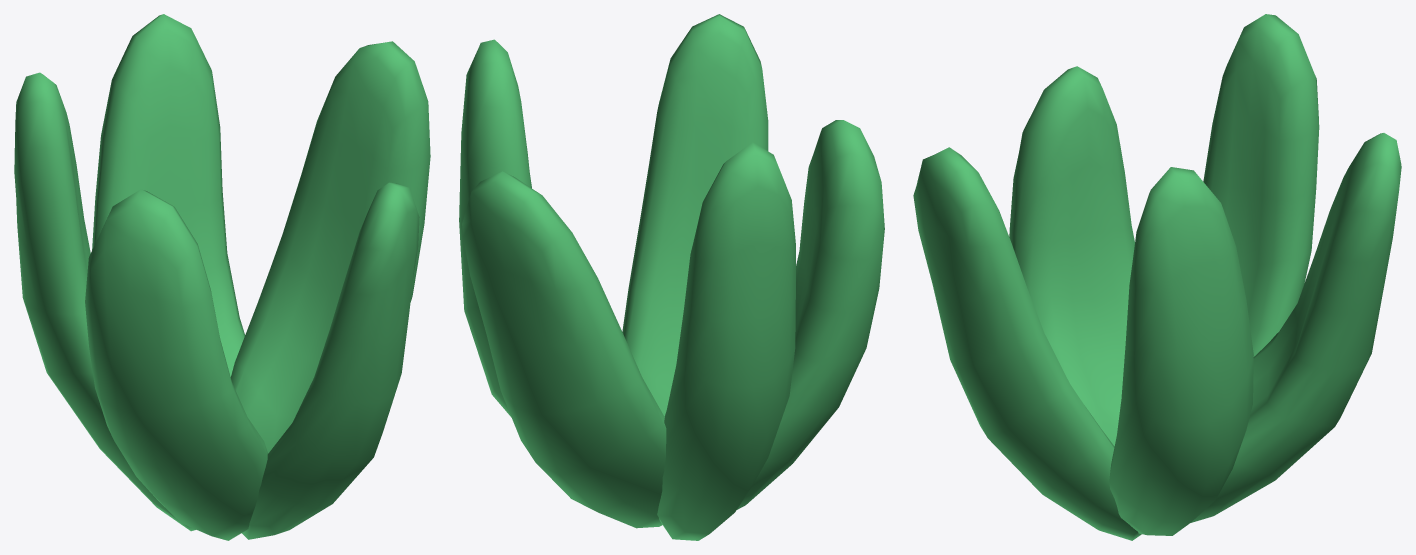
File: Plant_A_02.fbx
The picture shows the model from 3 angles, left to right: view 1: azimuth 30°, elevation 25°; view 2: azimuth 150°, elevation 25°; view 3: azimuth 270°, elevation 25°; orthographic projection. The views are drawn at different scales.
Parts seen in each view (by area): view 1: Plant_A_02_LOD0; view 2: Plant_A_02_LOD0; view 3: Plant_A_02_LOD0.
Boxes of the visible parts, x1=… form: Plant_A_02_LOD0: x1=14, y1=14, x2=430, y2=540; Plant_A_02_LOD0: x1=459, y1=14, x2=884, y2=540; Plant_A_02_LOD0: x1=913, y1=14, x2=1401, y2=540.
Size of what is drawn, in the model's own units: 410 by 477 by 468.
